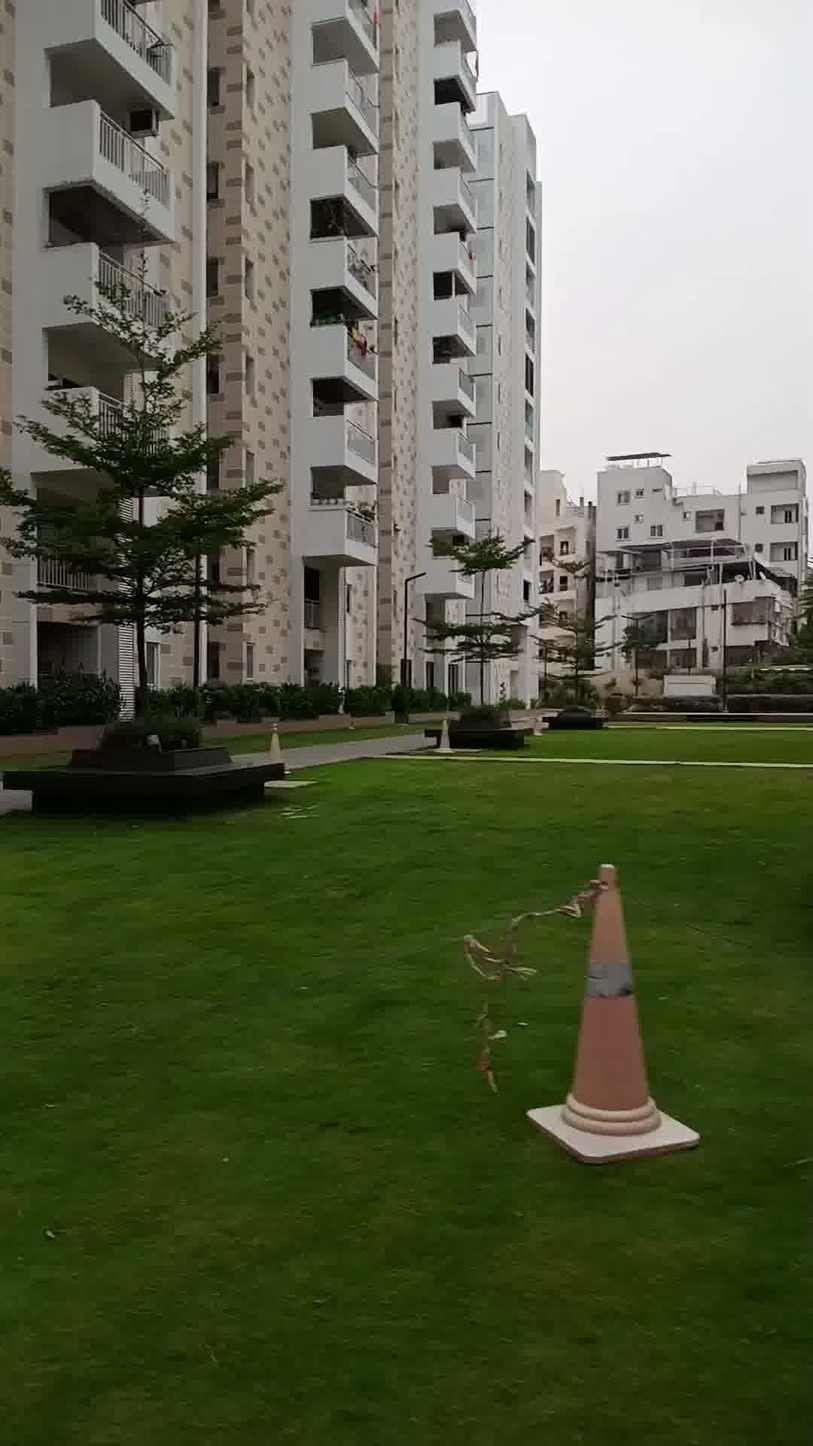tree: (26, 239, 259, 769), (415, 455, 543, 757), (555, 541, 626, 732)
